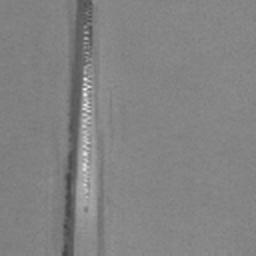Slag inclusion: (61, 0, 93, 256)
